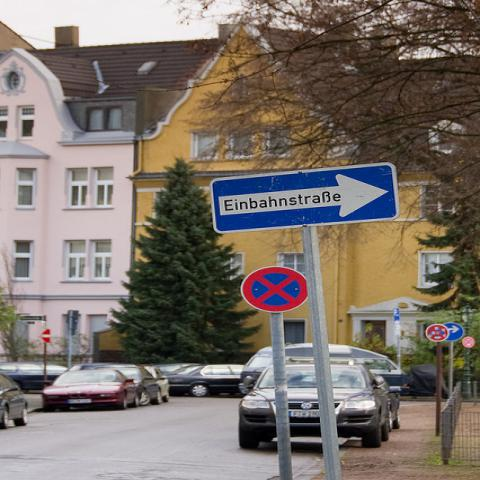car: (236, 363, 409, 451), (238, 343, 408, 396), (42, 368, 141, 412), (74, 360, 163, 408), (165, 365, 245, 397), (0, 361, 69, 391), (1, 368, 29, 428), (143, 365, 170, 402), (150, 363, 208, 376)
